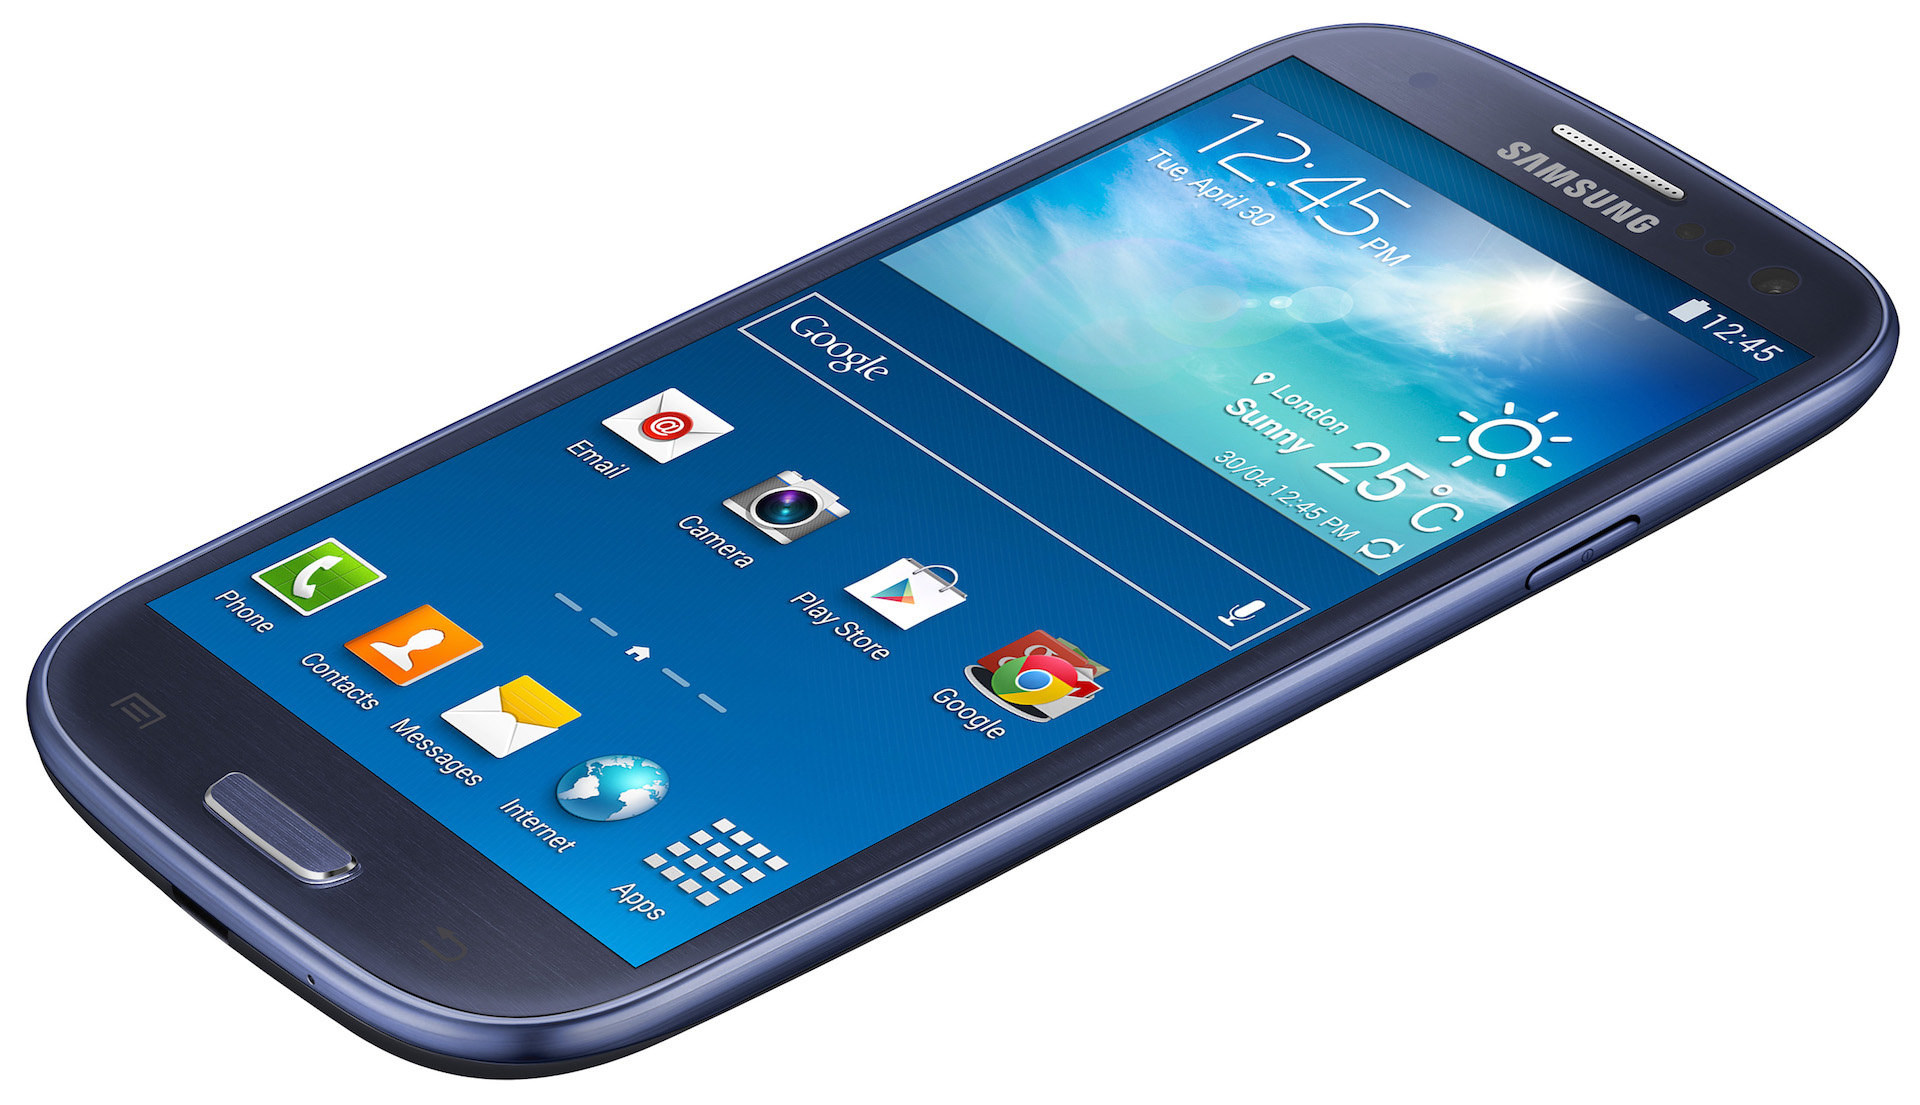smartphone: (22, 21, 1904, 1083)
